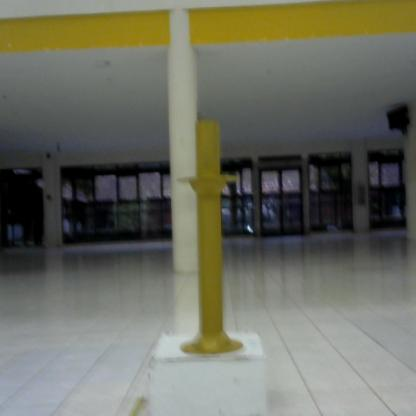pole: (177, 114, 248, 367)
